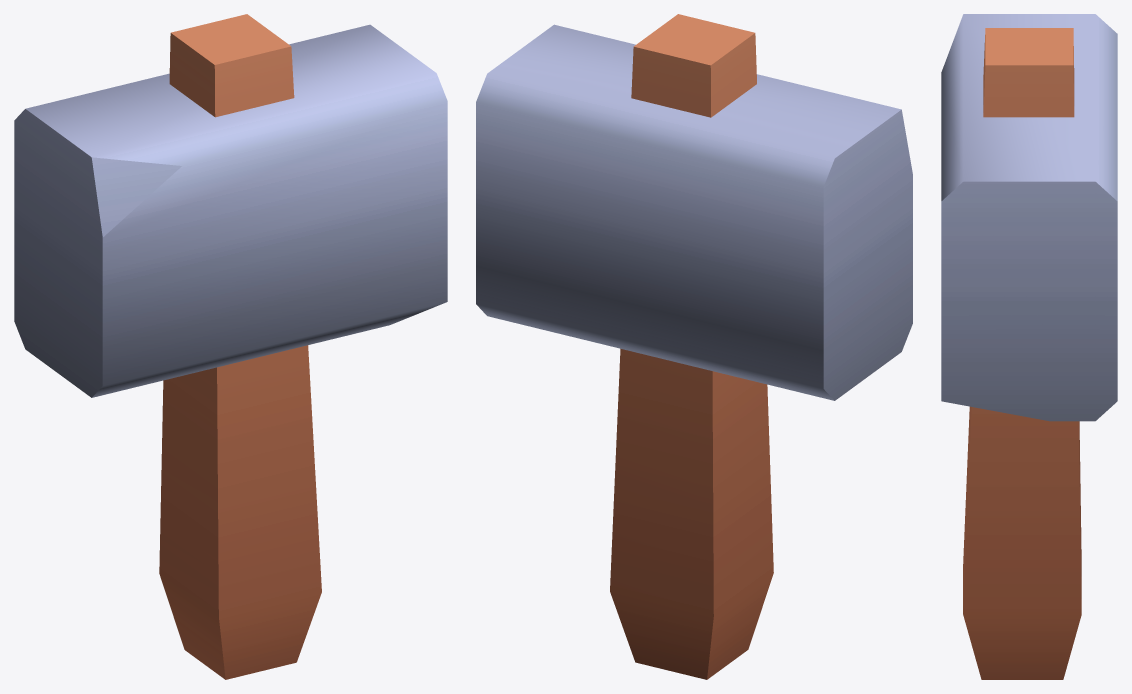
The model's file is surv.tool_hammer.glb.
The picture shows the model from 3 angles, left to right: view 1: azimuth 30°, elevation 25°; view 2: azimuth 150°, elevation 25°; view 3: azimuth 270°, elevation 25°; orthographic projection.
Parts seen in each view (by area): view 1: tool-hammer; view 2: tool-hammer; view 3: tool-hammer.
Boxes of the visible parts, <box> form: tool-hammer: <box>14,14,447,679</box>; tool-hammer: <box>476,14,912,679</box>; tool-hammer: <box>941,14,1117,679</box>.
Size of the model in its own units: 0.2355 by 0.4015 by 0.1047.
Materials: 1 (1 with a texture image).
